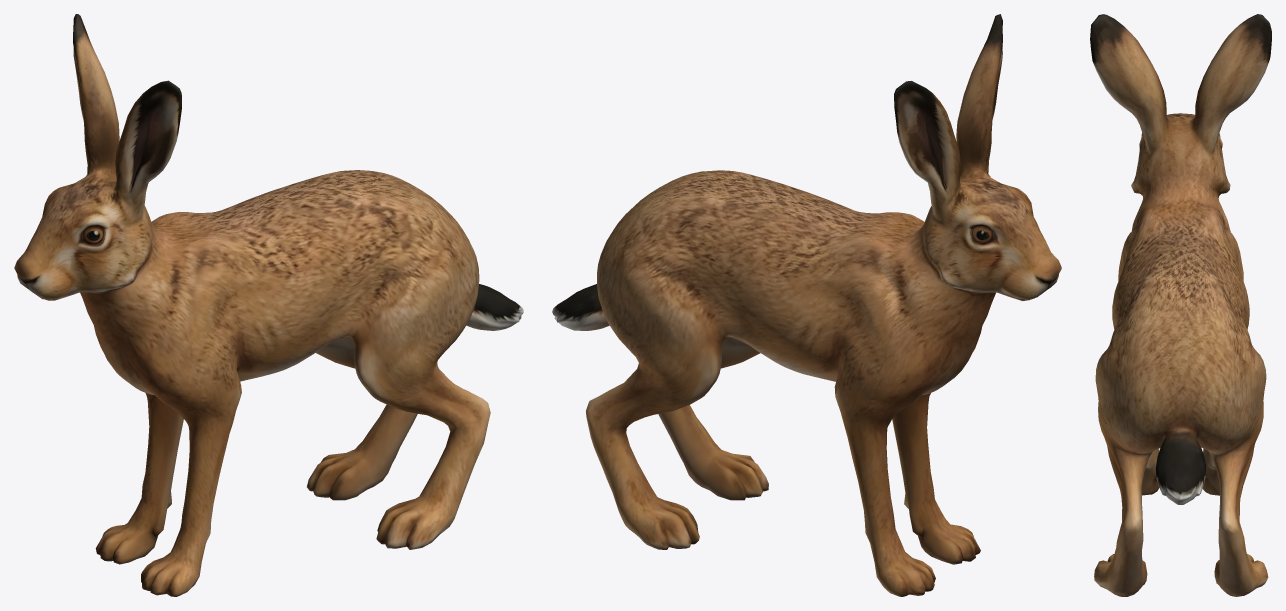
3 views of the same model, side by side, from view 1: azimuth 30°, elevation 25°; view 2: azimuth 150°, elevation 25°; view 3: azimuth 270°, elevation 25° (orthographic). The views are drawn at different scales.
Parts seen in each view (by area): view 1: tripo_node_c3fd5e77-63e0-470f-9ac3-fb966102aacf; view 2: tripo_node_c3fd5e77-63e0-470f-9ac3-fb966102aacf; view 3: tripo_node_c3fd5e77-63e0-470f-9ac3-fb966102aacf.
Boxes of the visible parts, x1=… form: tripo_node_c3fd5e77-63e0-470f-9ac3-fb966102aacf: x1=14, y1=14, x2=523, y2=596; tripo_node_c3fd5e77-63e0-470f-9ac3-fb966102aacf: x1=552, y1=14, x2=1061, y2=596; tripo_node_c3fd5e77-63e0-470f-9ac3-fb966102aacf: x1=1090, y1=14, x2=1271, y2=596.
Size of the model in its own units: 0.9933 by 1 by 0.3557.
1 material, 1 textured.
